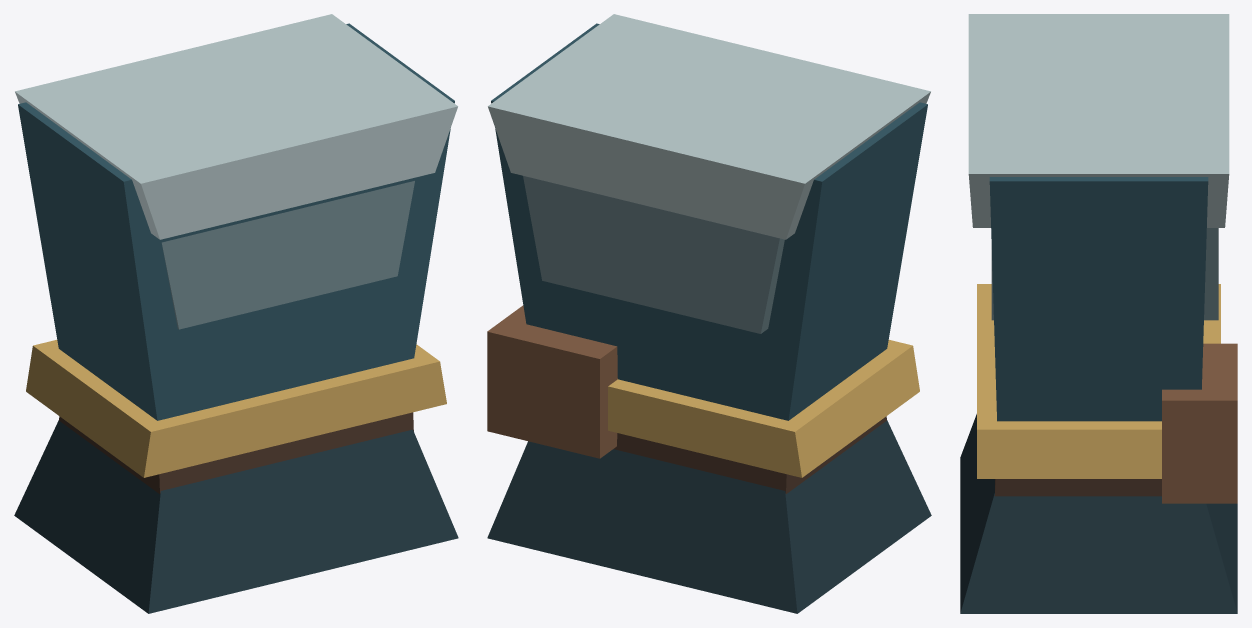
The model's file is adventurer_torso.obj.
The picture shows the model from 3 angles, left to right: view 1: azimuth 30°, elevation 25°; view 2: azimuth 150°, elevation 25°; view 3: azimuth 270°, elevation 25°; orthographic projection. The views are drawn at different scales.
Visible parts, largest first — view 1: AdventurerTorso; view 2: AdventurerTorso; view 3: AdventurerTorso.
Boxes of the visible parts, box(x1,y1,x2,y2) form: AdventurerTorso: box(14, 14, 458, 613); AdventurerTorso: box(487, 14, 931, 613); AdventurerTorso: box(960, 14, 1237, 613).
Bounding box in the file's own units: 0.94 × 1.16 × 0.66.
